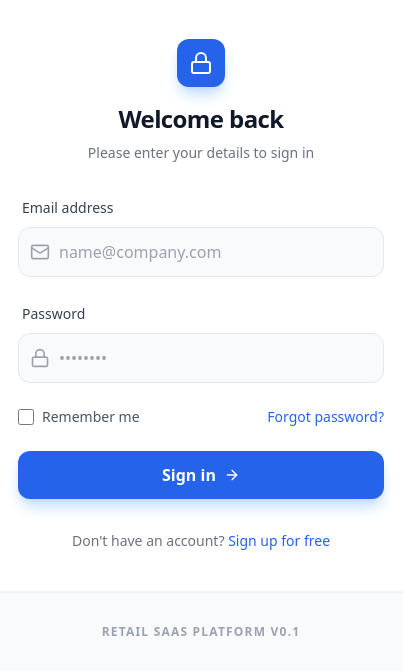
Test: Login UI Authentication Mapping › displays error message on failed login
Type "wrong@bmad.com" into the field with placeholder "name@company.com" at (201,252), box [18,227,384,277]
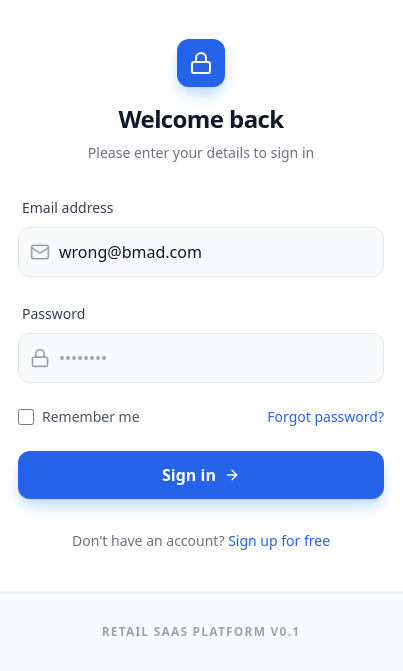
Type "wrong" into the password field with placeholder "••••••••" at (201,358), box [18,333,384,383]
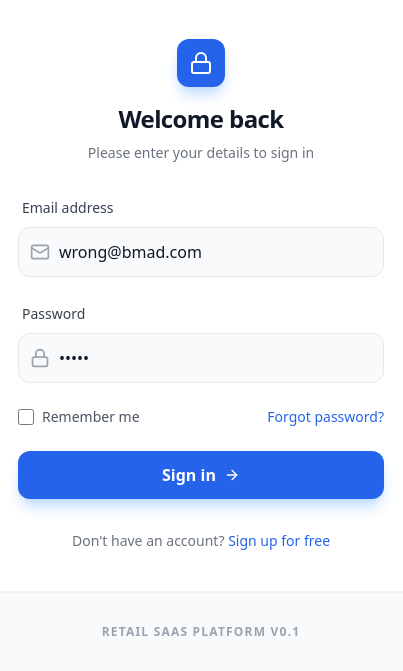
Click the button "Sign in" at (201,475), box [18,451,384,499]
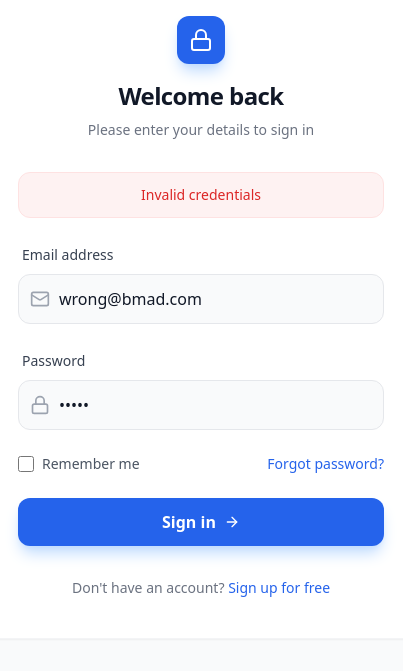
Expected: the text "Invalid credentials" is shown, [18,172,384,218]
